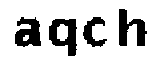a: (8, 15, 45, 54)
c: (81, 14, 109, 51)
h: (116, 6, 151, 51)
q: (46, 14, 80, 60)
